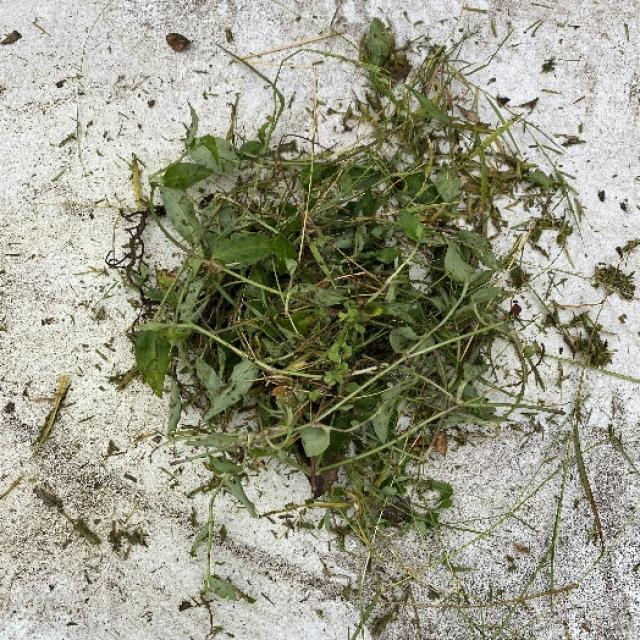organik: (124, 41, 594, 538)
